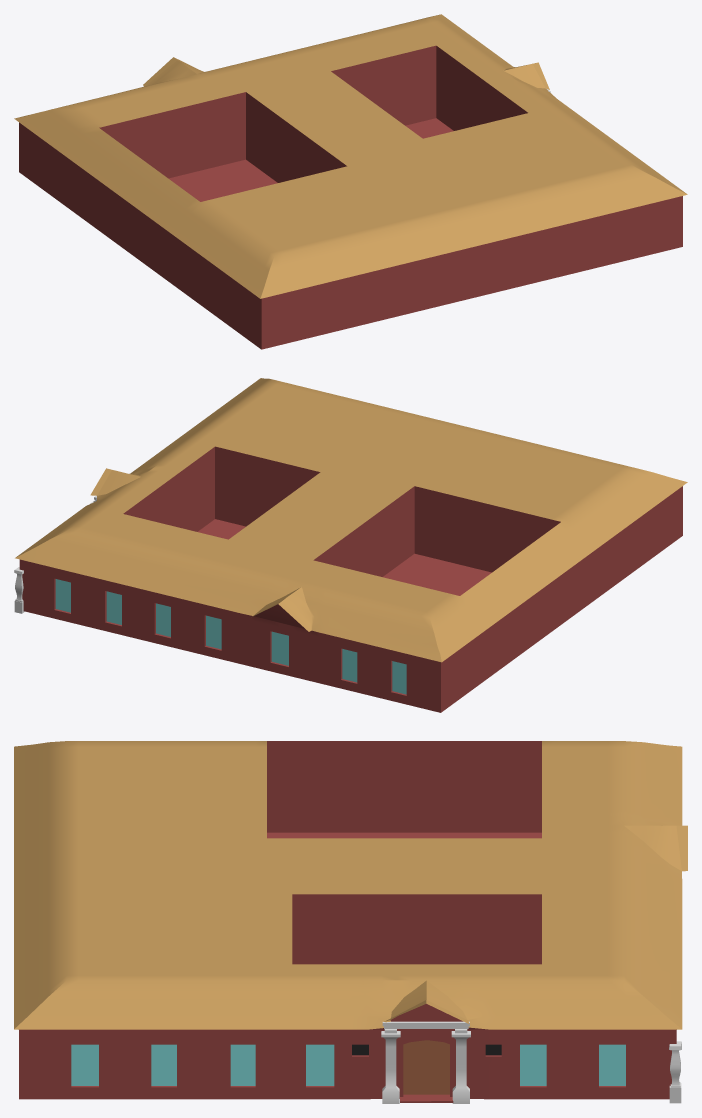
Rendered from MuseOhiggins1.fbx.
The picture shows the model from 3 angles, top to bottom: view 1: azimuth 30°, elevation 25°; view 2: azimuth 150°, elevation 25°; view 3: azimuth 270°, elevation 25°; orthographic projection. The views are drawn at different scales.
Visible parts, largest first — view 1: Cube; view 2: Cube; view 3: Cube, Cube.001, Cube.002.
Part boxes in pixels (left/top/right/bottom): Cube: left=14, top=14, right=687, bottom=349; Cube: left=15, top=378, right=687, bottom=712; Cube: left=14, top=741, right=687, bottom=1102; Cube.001: left=381, top=1021, right=470, bottom=1103; Cube.002: left=669, top=1041, right=681, bottom=1103.
Bounding box in the file's own units: 1199 × 199 × 1199.
